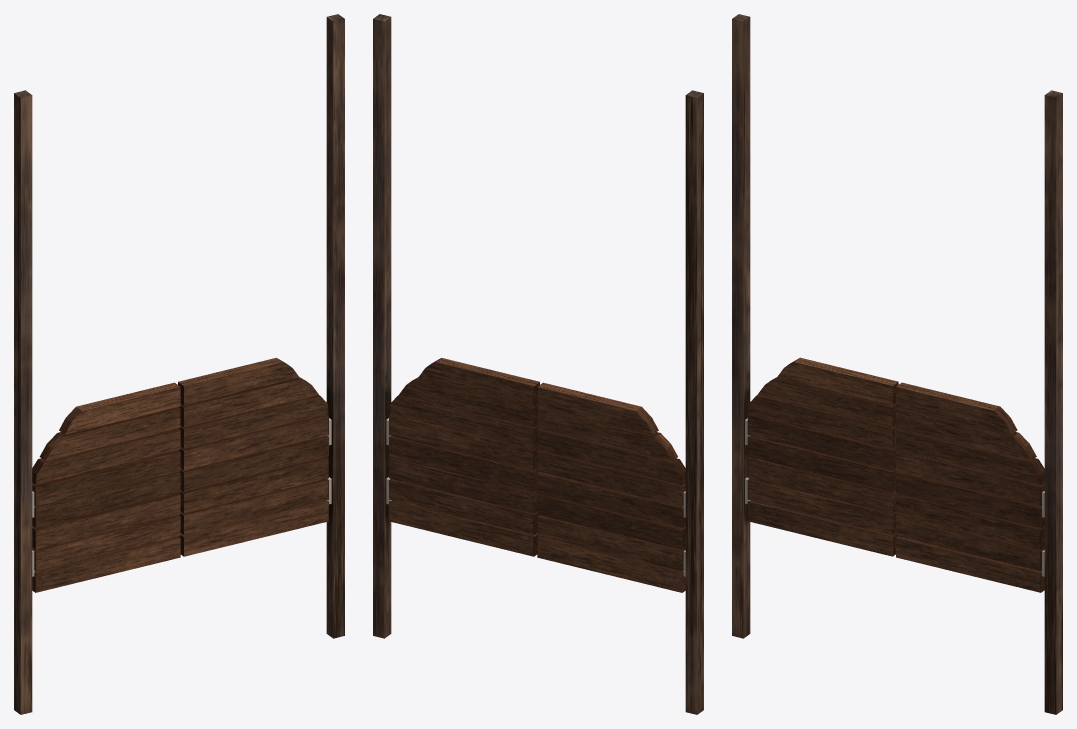
Rendered from Porta_Sanfonada_Bar.fbx.
3 views of the same model, side by side, from view 1: azimuth 30°, elevation 25°; view 2: azimuth 150°, elevation 25°; view 3: azimuth 330°, elevation 25° (orthographic).
Visible parts, largest first — view 1: Porta_Sanfonada_E, Porta_Sanfonada_D, Porta_Sanfonada_Moldura; view 2: Porta_Sanfonada_E, Porta_Sanfonada_D, Porta_Sanfonada_Moldura; view 3: Porta_Sanfonada_D, Porta_Sanfonada_E, Porta_Sanfonada_Moldura.
Boxes of the visible parts, x1,y1,x2,y2 form: Porta_Sanfonada_E: (32,382,180,592); Porta_Sanfonada_D: (178,358,328,556); Porta_Sanfonada_Moldura: (14,14,344,714); Porta_Sanfonada_E: (537,382,685,592); Porta_Sanfonada_D: (389,358,539,556); Porta_Sanfonada_Moldura: (373,14,703,714); Porta_Sanfonada_D: (896,382,1044,592); Porta_Sanfonada_E: (747,357,898,556); Porta_Sanfonada_Moldura: (732,14,1062,714).
Size of the model in its own units: 192 by 350 by 6.83.
